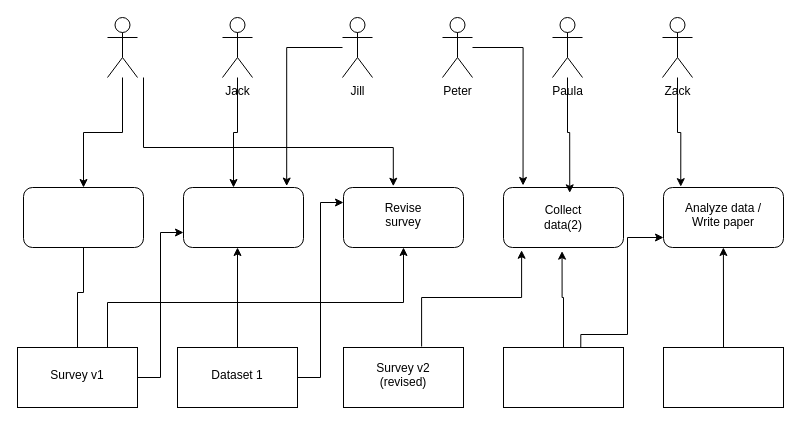
Some shapes in this 801 by 436 pixel diagram are drawn without their labels. Here are the shapes that lost their labels. From the top down, the centre of each, then its label:
At point 122,47: "Laura".
At point 83,217: "Design survey".
At point 243,217: "Collect data (1)".
At point 563,377: "Dataset 2".
At point 723,377: "Paper".
